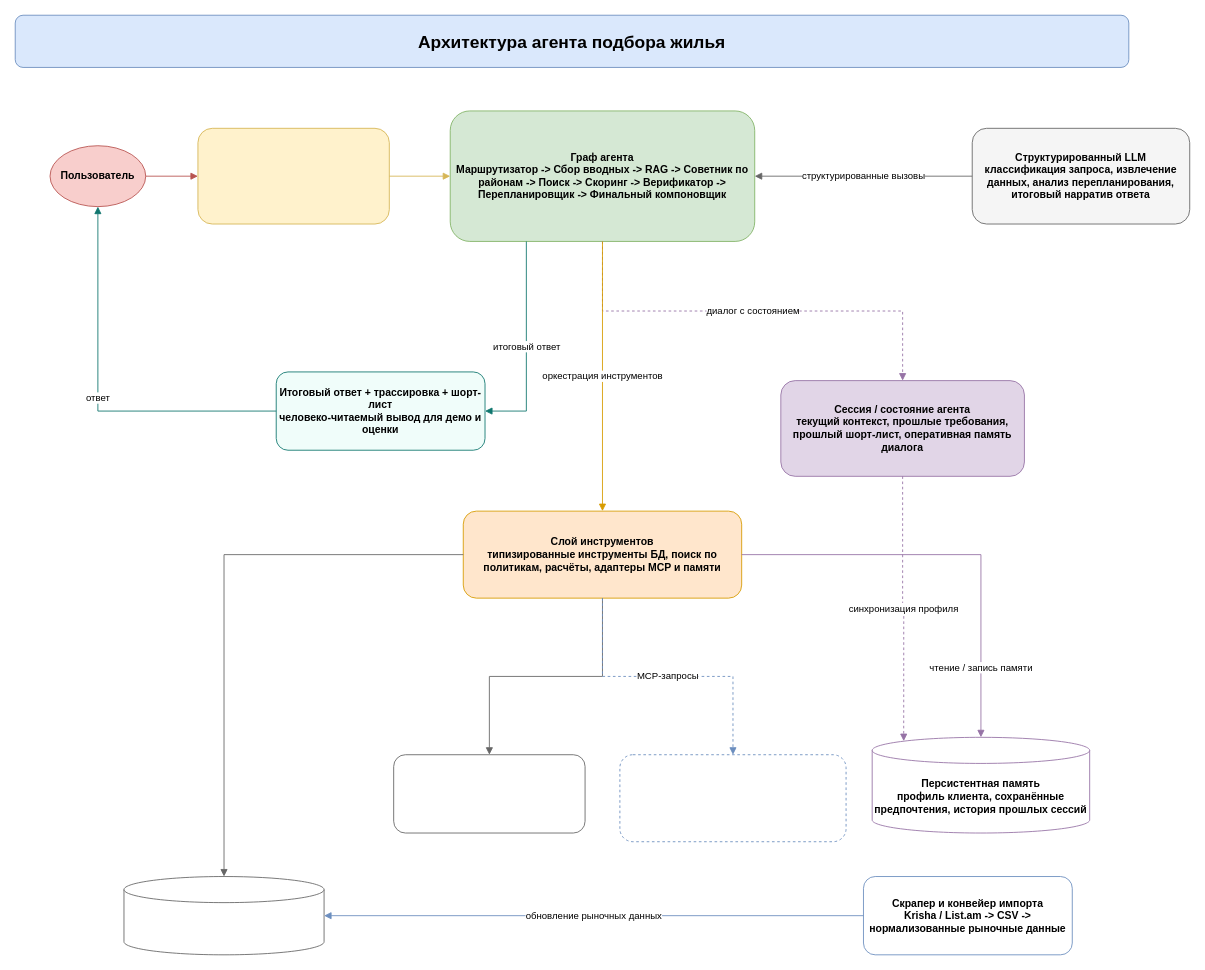
The diagram is 1205 pixels wide and 970 high, and some of its shapes have lost their labels. Each missing label, with the box of its shape:
CLI / Streamlit / QA Runner точки входа для демо и оценки: (197, 127, 389, 224)
MCP Циан (Cian) живой поиск объявлений, карточки объектов, цены и фильтры: (619, 754, 846, 842)
База знаний RAG markdown-документы по политикам и релокации: (393, 754, 585, 833)
Операционные данные SQLite клиенты, кейсы, объявления, города, районы, сервисы: (123, 876, 324, 955)
